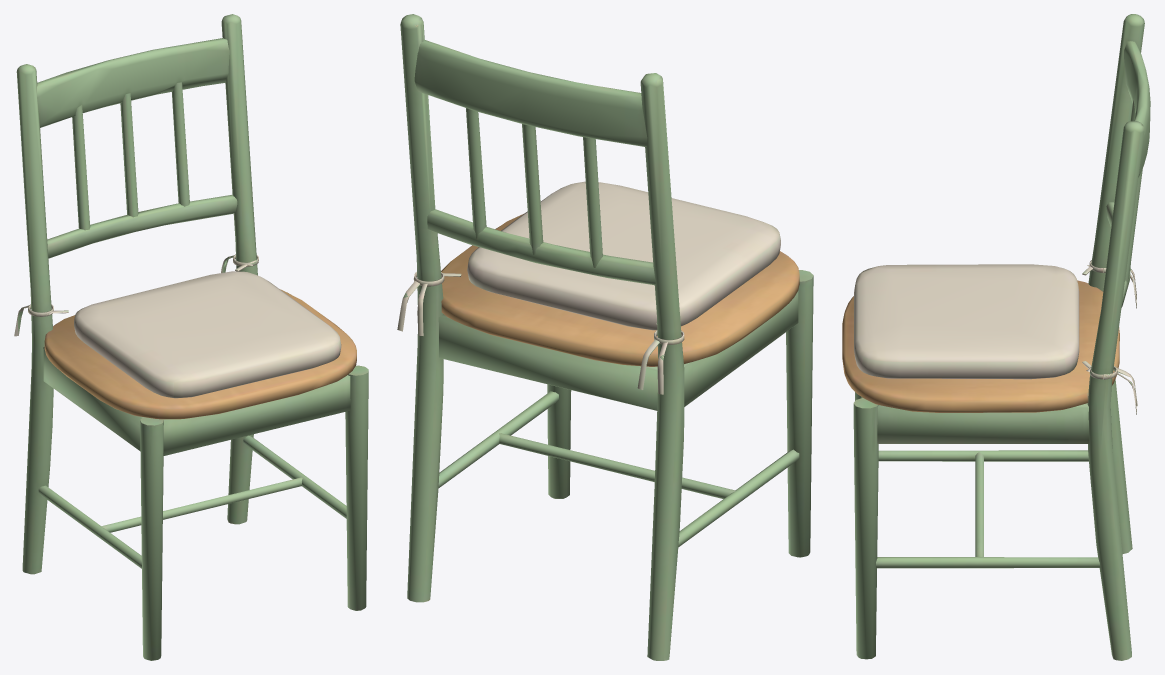
Rendered from dining-chair.glb.
3 views of the same model, side by side, from view 1: azimuth 30°, elevation 25°; view 2: azimuth 150°, elevation 25°; view 3: azimuth 270°, elevation 25° (orthographic). The views are drawn at different scales.
Visible parts, largest first — view 1: dining-chair_body; view 2: dining-chair_body; view 3: dining-chair_body.
Part boxes in pixels (left/top/right/bottom): dining-chair_body: left=14, top=14, right=368, bottom=660; dining-chair_body: left=397, top=14, right=813, bottom=660; dining-chair_body: left=842, top=14, right=1150, bottom=660.
Bounding box in the file's own units: 0.4694 × 0.9117 × 0.4764.
Materials: 1 (1 with a texture image).
